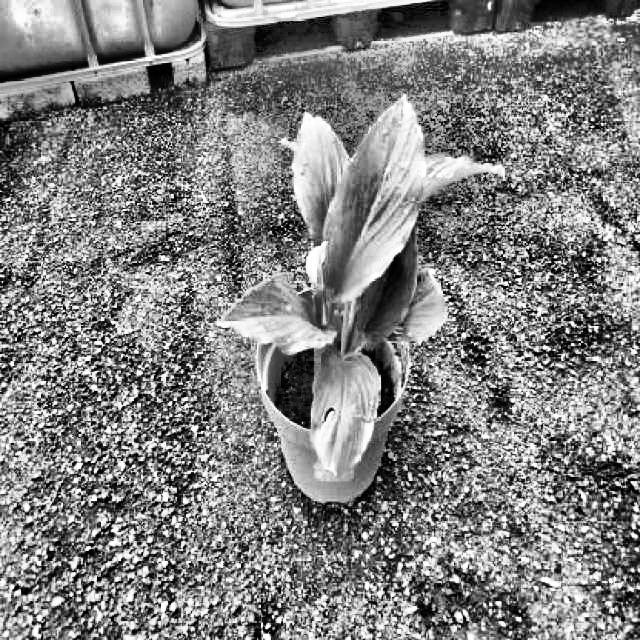plants: (218, 96, 504, 478)
